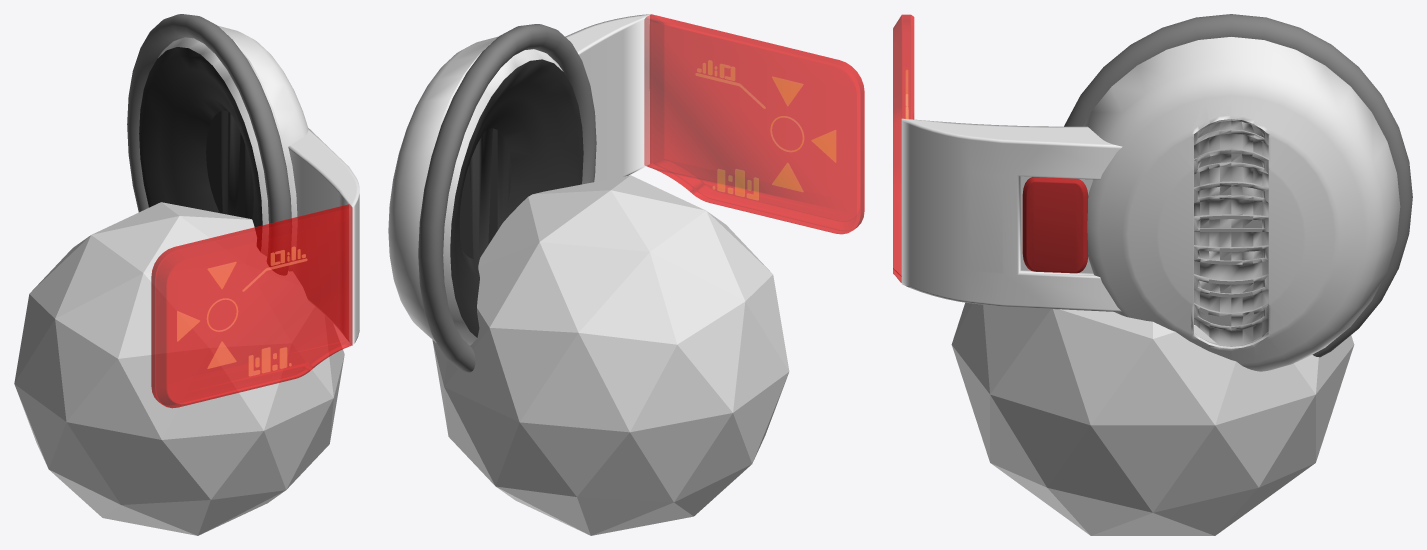
File: scouter_d2b39d.fbx
3 renders of one model, left to right at view 1: azimuth 30°, elevation 25°; view 2: azimuth 150°, elevation 25°; view 3: azimuth 270°, elevation 25°, orthographic. The views are drawn at different scales.
Parts seen in each view (by area): view 1: Icosphere, scouter_d2b39d; view 2: Icosphere, scouter_d2b39d; view 3: scouter_d2b39d, Icosphere.
Part boxes in pixels (x1,y1,x2,y2): Icosphere: (14, 202, 344, 535); scouter_d2b39d: (127, 14, 359, 408); Icosphere: (432, 175, 789, 535); scouter_d2b39d: (388, 14, 864, 372); scouter_d2b39d: (893, 14, 1412, 371); Icosphere: (951, 302, 1354, 535).
Size of the model in its own units: 1.9 by 3 by 2.58.
